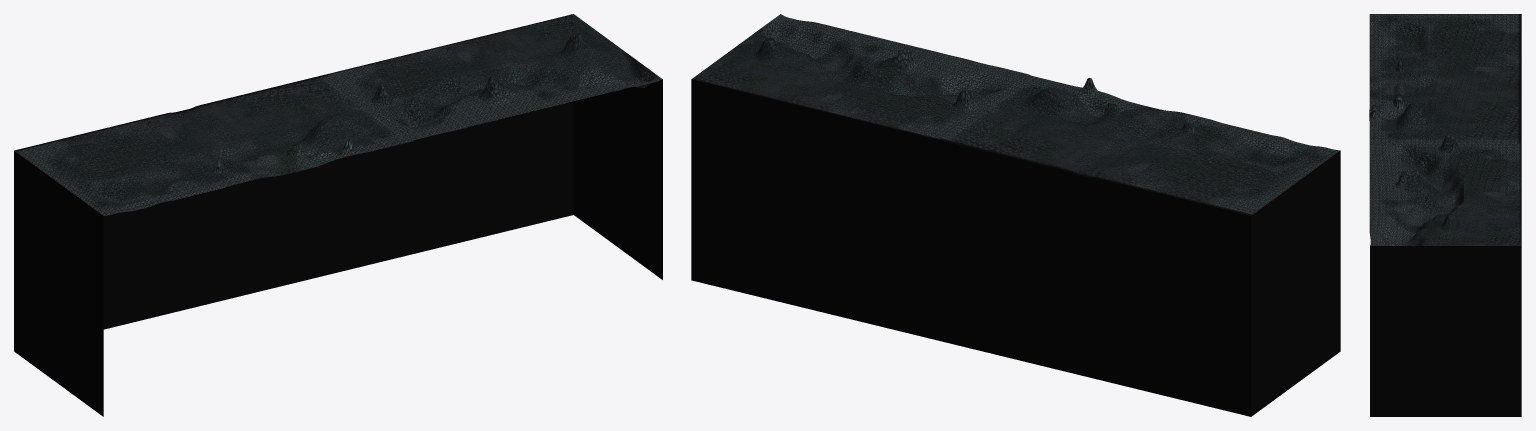
The picture shows the model from 3 angles, left to right: view 1: azimuth 30°, elevation 25°; view 2: azimuth 150°, elevation 25°; view 3: azimuth 270°, elevation 25°; orthographic projection. The views are drawn at different scales.
Visible parts, largest first — view 1: ground_base6; view 2: ground_base6; view 3: ground_base6.
Boxes of the visible parts, x1,y1,x2,y2 form: ground_base6: [14, 14, 662, 416]; ground_base6: [691, 14, 1340, 416]; ground_base6: [1369, 14, 1521, 416].
Size of the model in its own units: 5827 by 2193 by 1617.
